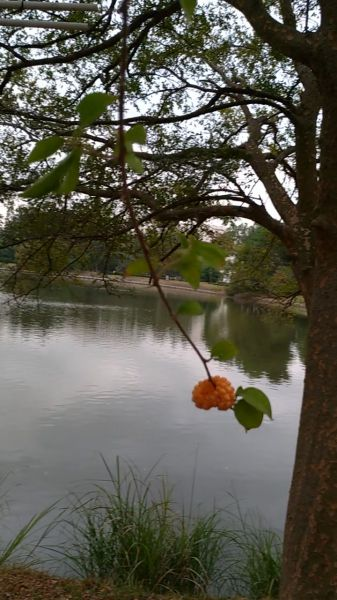eggs: (185, 371, 245, 414)
